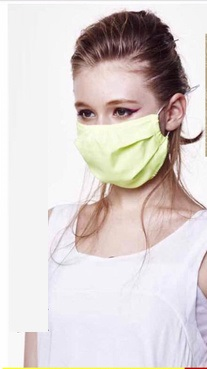face_mask: (74, 48, 154, 188)
